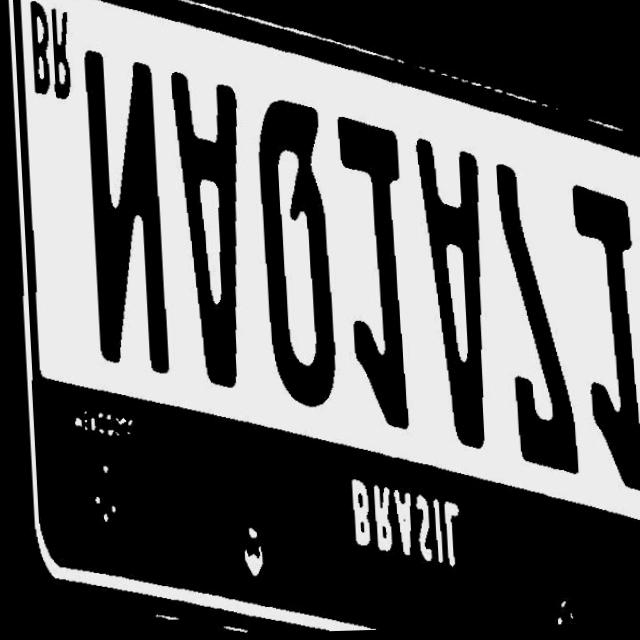1: (336, 117, 418, 437), (565, 183, 640, 493)
7: (490, 167, 581, 482)
a: (165, 68, 260, 393), (411, 133, 500, 453)
n: (77, 51, 173, 376)
q: (255, 97, 342, 411)
